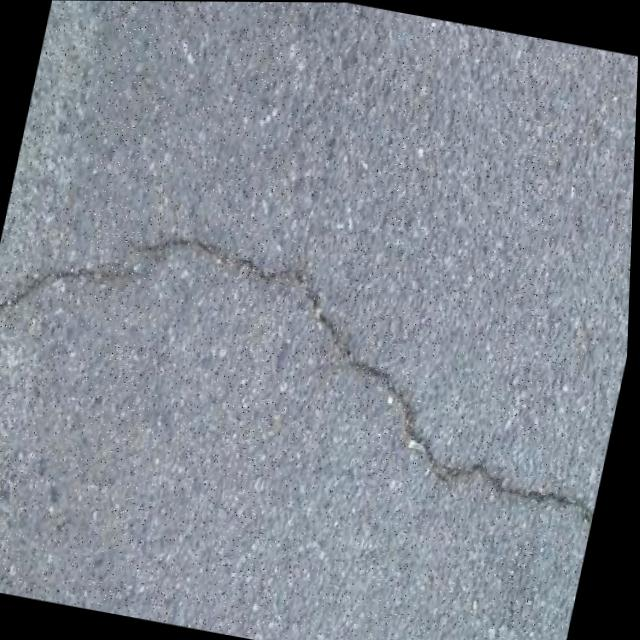Crack: (0, 197, 634, 543)
